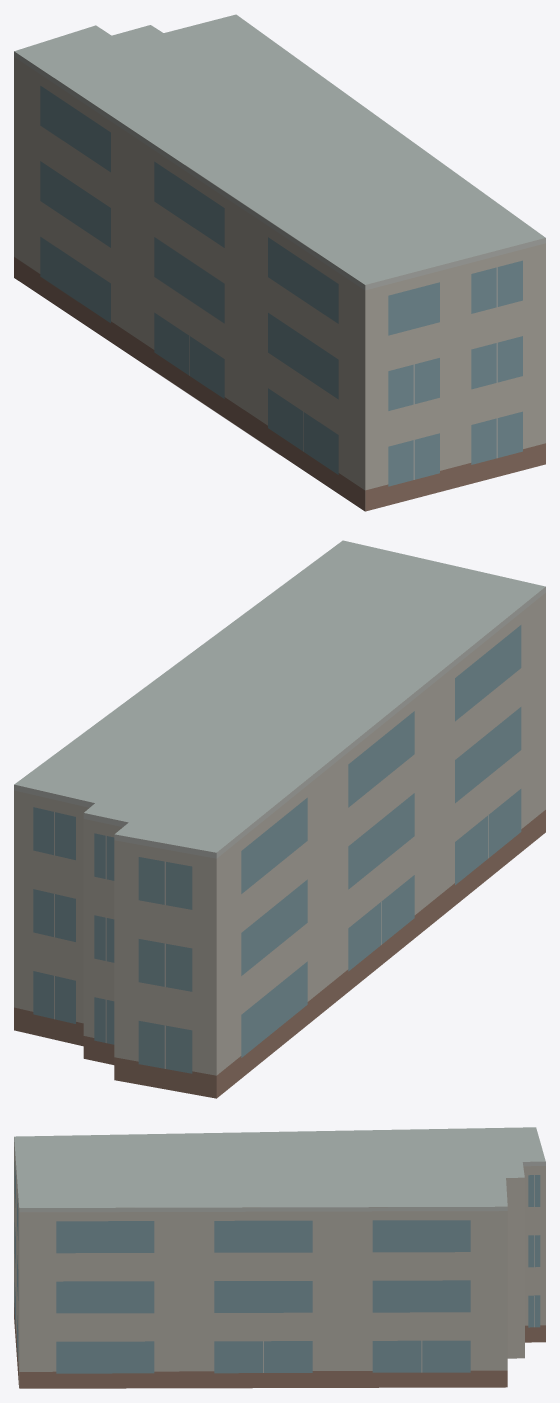
File: survey-upis-32878688.glb
3 renders of one model, top to bottom at view 1: azimuth 30°, elevation 25°; view 2: azimuth 150°, elevation 25°; view 3: azimuth 270°, elevation 25°, orthographic. The views are drawn at different scales.
Visible parts, largest first — view 1: survey-upis-32878688.tmp; view 2: survey-upis-32878688.tmp; view 3: survey-upis-32878688.tmp.
Part boxes in pixels (bbox=[...]): survey-upis-32878688.tmp: bbox=[14, 14, 545, 511]; survey-upis-32878688.tmp: bbox=[14, 540, 545, 1098]; survey-upis-32878688.tmp: bbox=[14, 1127, 545, 1388].
Bounding box in the file's own units: 9.7 × 10.1 × 26.96.
